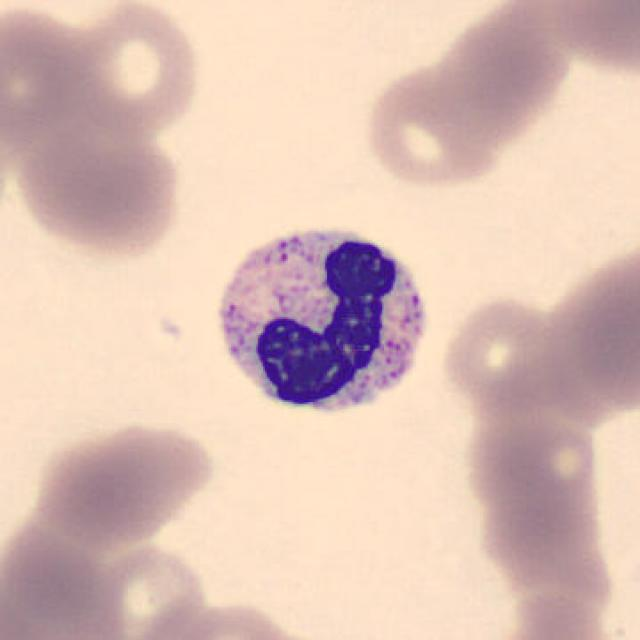Neutrophil: (201, 210, 443, 435)
RBC: (9, 124, 188, 266), (31, 420, 220, 550), (50, 0, 204, 143), (361, 60, 508, 192), (431, 6, 569, 129), (437, 291, 569, 418), (0, 523, 130, 640), (66, 538, 213, 638), (462, 410, 604, 510), (0, 16, 101, 156), (483, 514, 617, 600), (578, 248, 640, 414), (123, 594, 329, 640), (526, 0, 640, 79), (487, 590, 633, 640)
